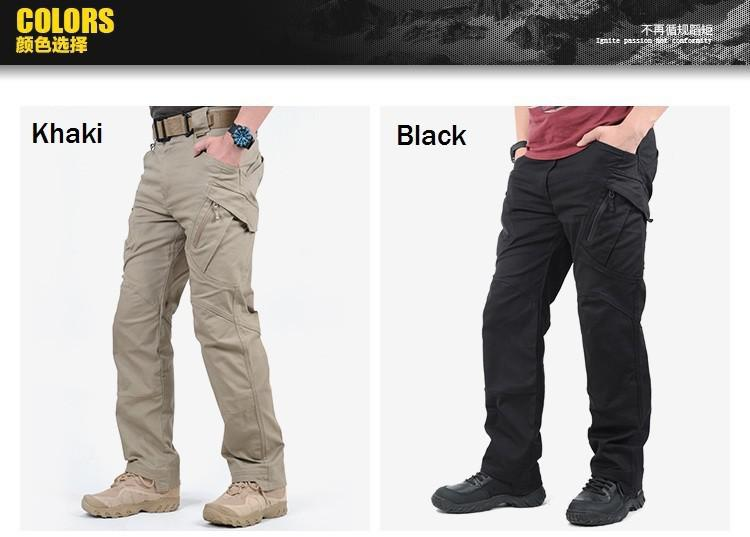pants: (109, 128, 291, 492), (480, 132, 661, 490)
